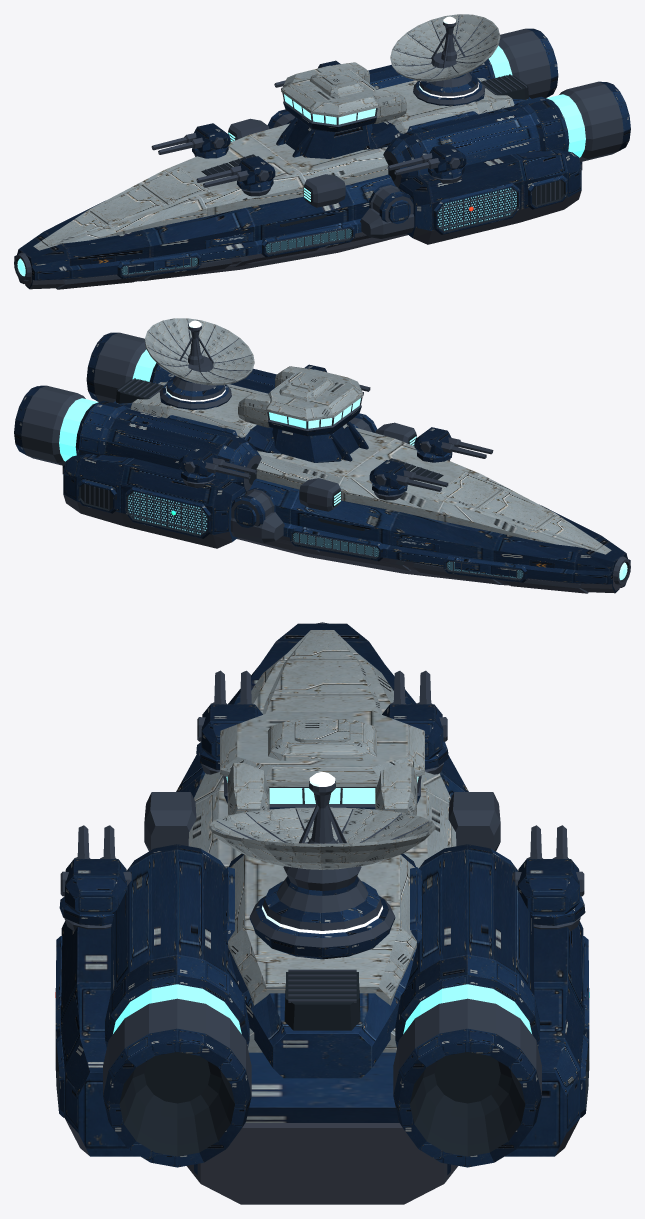
File: picket.glb
The picture shows the model from 3 angles, top to bottom: view 1: azimuth 30°, elevation 25°; view 2: azimuth 150°, elevation 25°; view 3: azimuth 270°, elevation 25°; orthographic projection. The views are drawn at different scales.
Visible parts, largest first — view 1: hull skin, engine_port skin, emitter_rotor skin, engine_starboard skin, generator skin, emitter skin, mount_laser_port_yaw skin, mount_pdc_port_yaw skin, mount_laser_starboard_yaw skin, mount_laser_starboard_pitch skin, mount_laser_port_pitch skin, mount_pdc_port_pitch skin; view 2: hull skin, engine_starboard skin, emitter_rotor skin, engine_port skin, generator skin, emitter skin, mount_laser_starboard_yaw skin, mount_pdc_starboard_yaw skin, mount_laser_port_yaw skin, mount_laser_port_pitch skin, mount_laser_starboard_pitch skin, mount_pdc_starboard_pitch skin; view 3: hull skin, engine_port skin, engine_starboard skin, generator skin, emitter_rotor skin, emitter skin, mount_pdc_port_yaw skin, mount_pdc_starboard_yaw skin, mount_laser_port_yaw skin, mount_laser_starboard_yaw skin.
Part boxes in pixels (left/top/right/bottom): hull skin: left=14, top=62, right=582, bottom=289; engine_port skin: left=383, top=81, right=630, bottom=187; emitter_rotor skin: left=390, top=14, right=500, bottom=81; engine_starboard skin: left=368, top=28, right=558, bottom=98; generator skin: left=376, top=74, right=528, bottom=133; emitter skin: left=413, top=72, right=485, bottom=105; mount_laser_port_yaw skin: left=237, top=156, right=275, bottom=191; mount_pdc_port_yaw skin: left=428, top=143, right=466, bottom=178; mount_laser_starboard_yaw skin: left=192, top=123, right=230, bottom=158; mount_laser_starboard_pitch skin: left=151, top=133, right=204, bottom=154; mount_laser_port_pitch skin: left=196, top=165, right=249, bottom=187; mount_pdc_port_pitch skin: left=387, top=153, right=440, bottom=175; hull skin: left=62, top=366, right=630, bottom=593; engine_starboard skin: left=14, top=385, right=261, bottom=491; emitter_rotor skin: left=144, top=318, right=254, bottom=385; engine_port skin: left=86, top=332, right=276, bottom=402; generator skin: left=116, top=378, right=268, bottom=437; emitter skin: left=159, top=376, right=231, bottom=409; mount_laser_starboard_yaw skin: left=369, top=460, right=407, bottom=495; mount_pdc_starboard_yaw skin: left=178, top=447, right=216, bottom=482; mount_laser_port_yaw skin: left=414, top=427, right=452, bottom=462; mount_laser_port_pitch skin: left=441, top=437, right=493, bottom=458; mount_laser_starboard_pitch skin: left=396, top=470, right=448, bottom=491; mount_pdc_starboard_pitch skin: left=205, top=457, right=257, bottom=479; hull skin: left=55, top=622, right=589, bottom=1204; engine_port skin: left=103, top=844, right=251, bottom=1167; engine_starboard skin: left=393, top=844, right=541, bottom=1167; generator skin: left=223, top=854, right=421, bottom=1030; emitter_rotor skin: left=209, top=772, right=435, bottom=890; emitter skin: left=249, top=876, right=395, bottom=959; mount_pdc_port_yaw skin: left=59, top=859, right=131, bottom=925; mount_pdc_starboard_yaw skin: left=513, top=859, right=585, bottom=925; mount_laser_port_yaw skin: left=196, top=704, right=262, bottom=769; mount_laser_starboard_yaw skin: left=382, top=704, right=448, bottom=769.
Size of the model in its own units: 2 by 0.6192 by 0.8317.
Materials: 11 (2 with a texture image).
